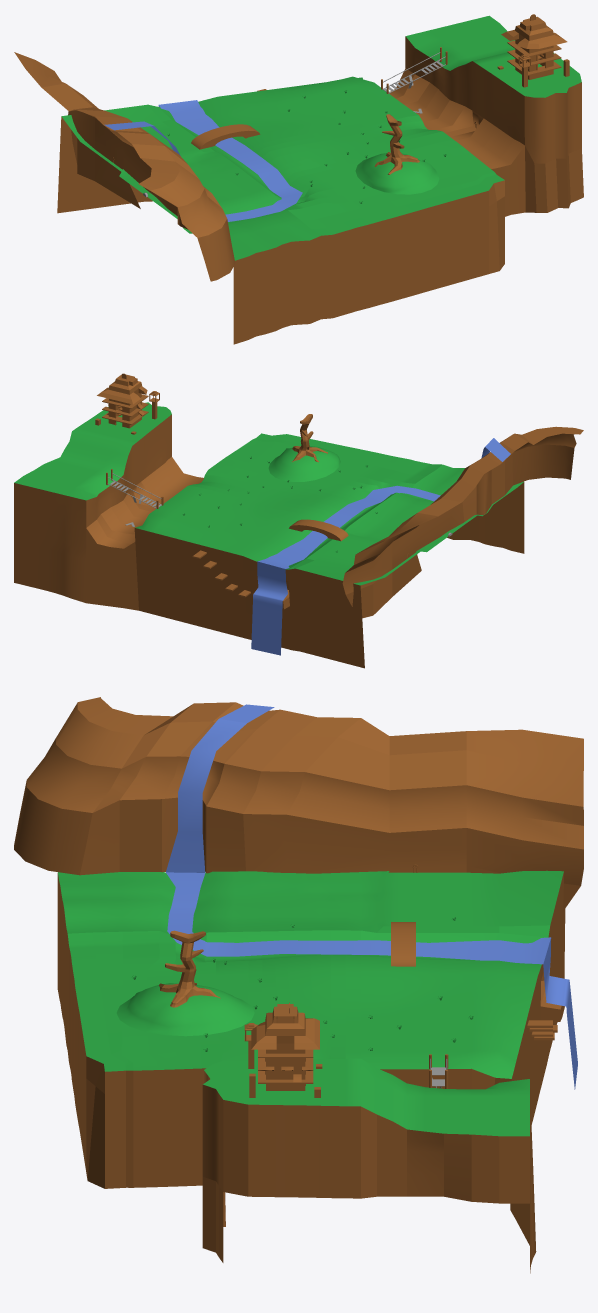
The model's file is Level 1 Final 11-22.fbx.
The picture shows the model from 3 angles, top to bottom: view 1: azimuth 30°, elevation 25°; view 2: azimuth 150°, elevation 25°; view 3: azimuth 270°, elevation 25°; orthographic projection. The views are drawn at different scales.
Visible parts, largest first — view 1: Ground, pPlane2, Water, polySurface9, pSphere65, pPipe1, Hill_Tree; view 2: Ground, pPlane2, Water, polySurface9, pSphere65, pPipe1, Hill_Tree; view 3: Ground, pPlane2, Water, polySurface9, pSphere65, Hill_Tree, pPipe1.
Part boxes in pixels (box(x1,y1,x2,y2)): Ground: box(57, 15, 583, 344); pPlane2: box(14, 52, 235, 281); Water: box(104, 100, 302, 221); polySurface9: box(497, 14, 569, 87); pSphere65: box(355, 153, 439, 194); pPipe1: box(191, 124, 260, 149); Hill_Tree: box(374, 114, 419, 174); Ground: box(14, 402, 524, 668); pPlane2: box(342, 426, 583, 618); Water: box(251, 438, 510, 655); polySurface9: box(95, 373, 159, 434); pSphere65: box(268, 446, 340, 481); pPipe1: box(289, 519, 348, 541); Hill_Tree: box(292, 414, 327, 462); Ground: box(57, 870, 565, 1273); pPlane2: box(14, 697, 583, 910); Water: box(166, 704, 577, 1089); polySurface9: box(244, 1002, 322, 1097); pSphere65: box(116, 983, 254, 1036); Hill_Tree: box(159, 930, 220, 1007); pPipe1: box(391, 922, 415, 966).
Bounding box in the file's own units: 530 × 201 × 370.
